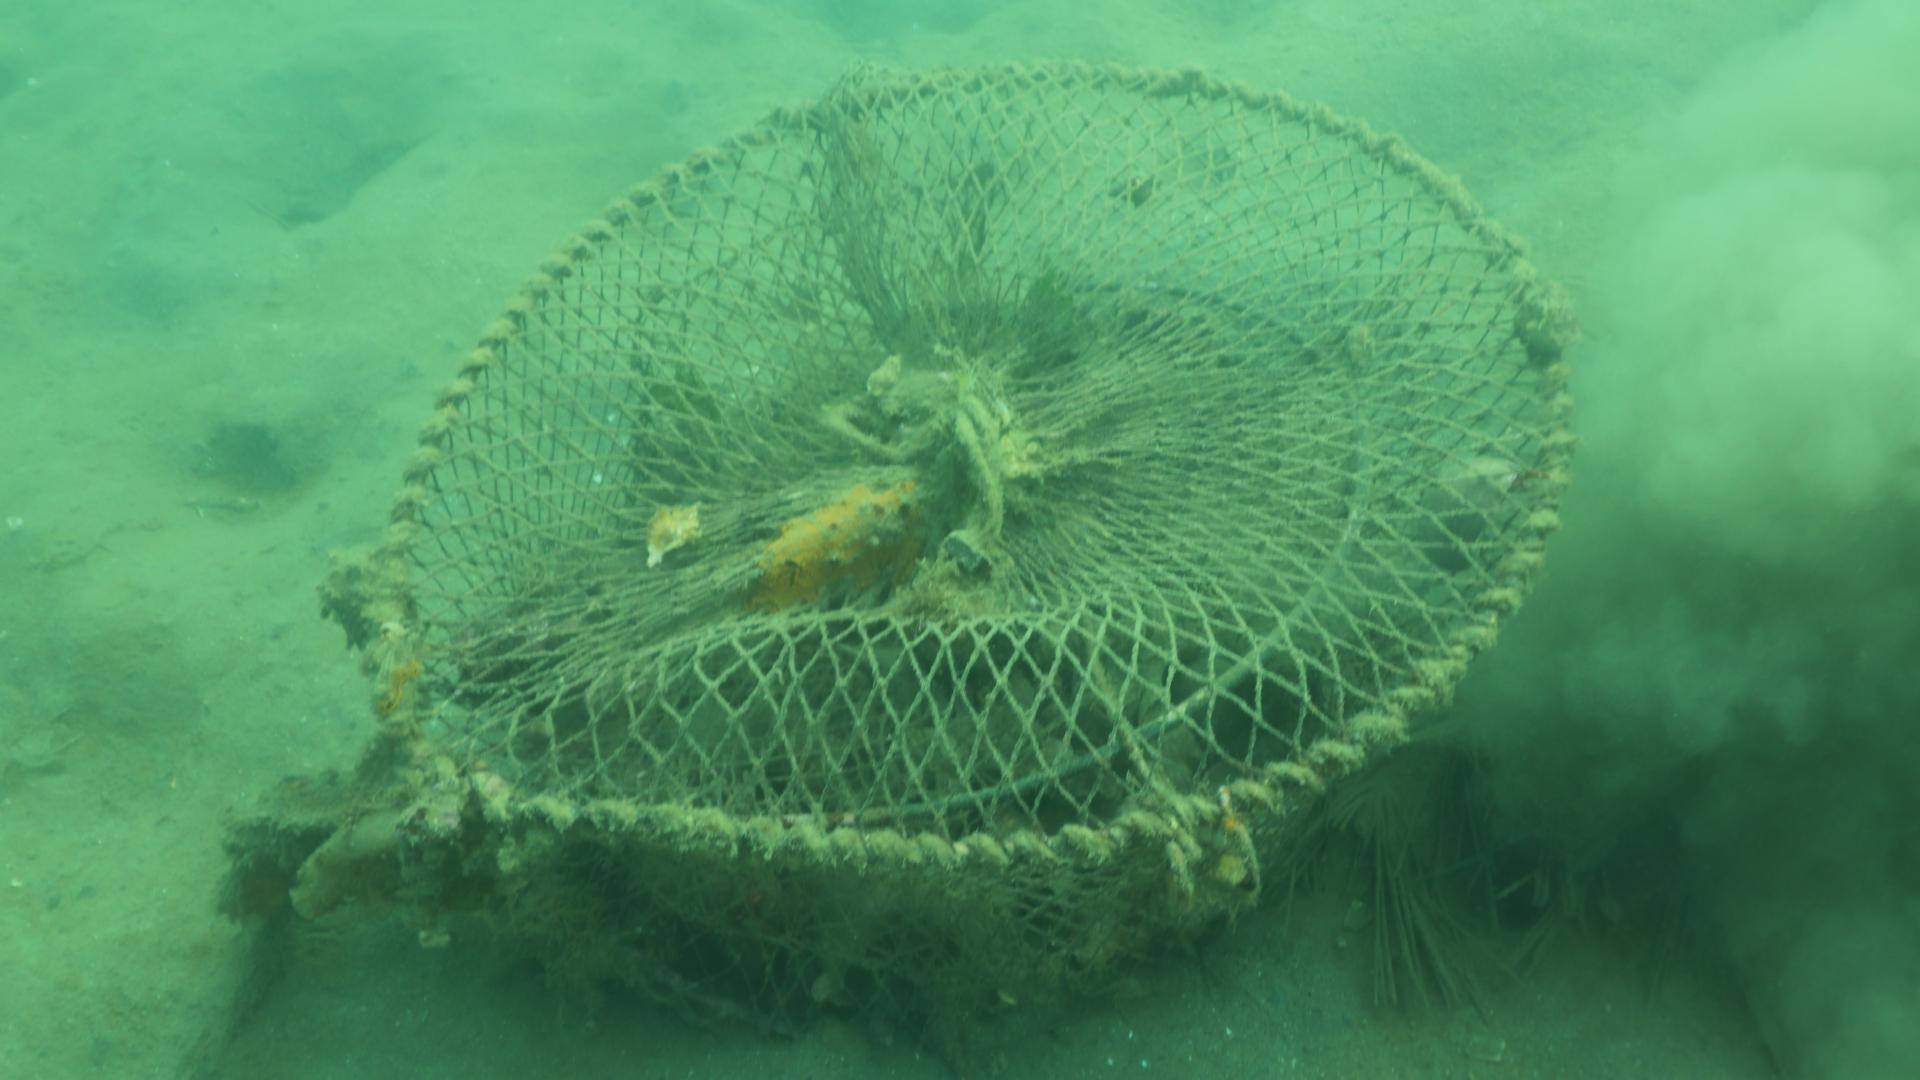circular fish trap: (357, 61, 1575, 1029)
